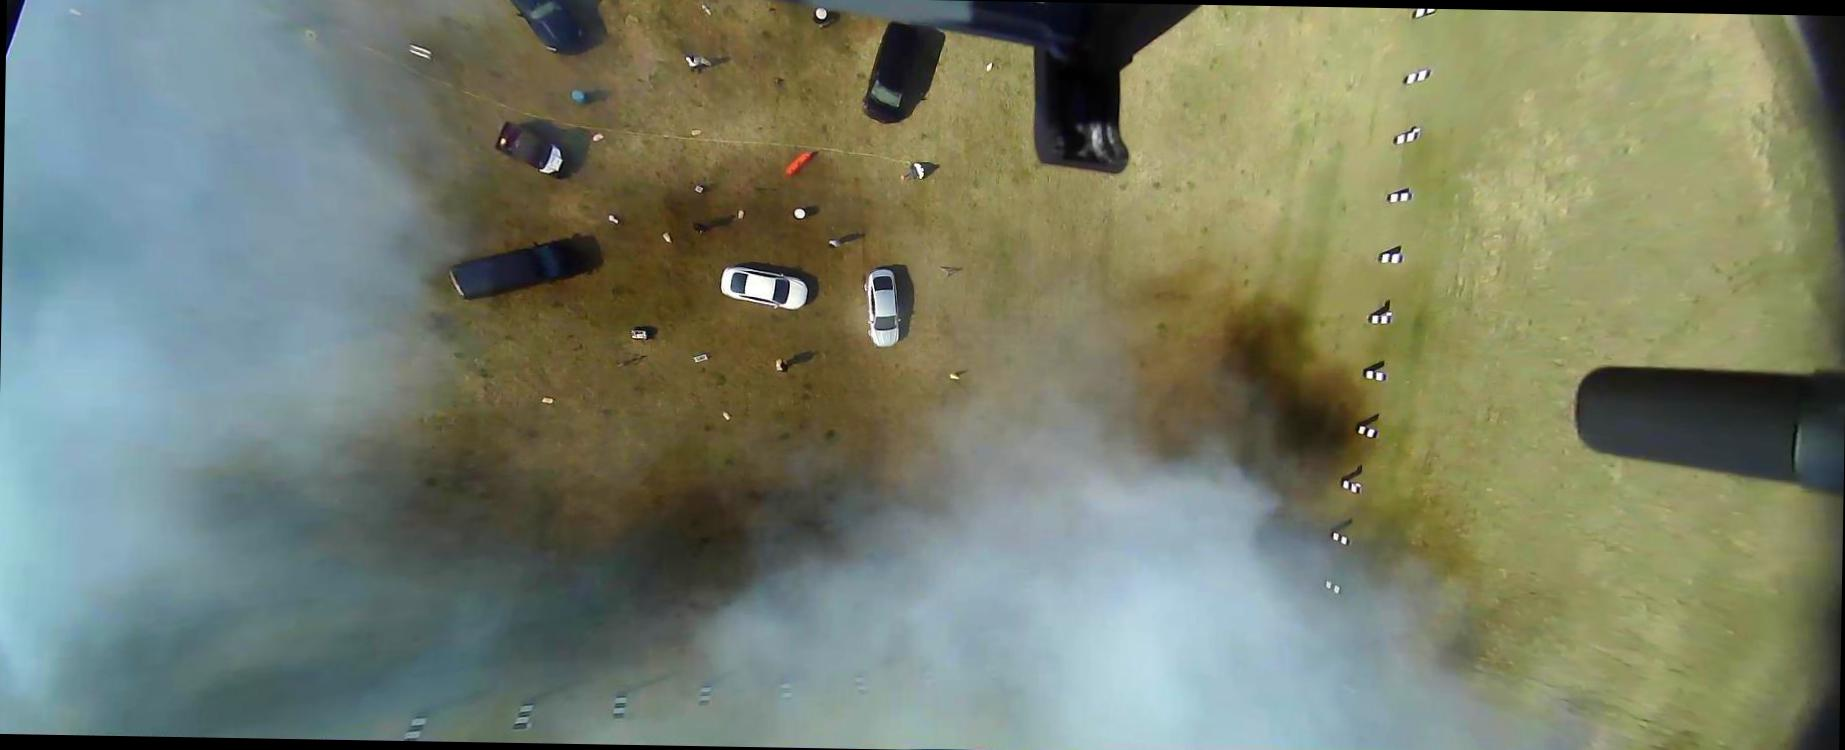vehicle: (446, 240, 564, 303), (860, 19, 921, 125), (501, 0, 584, 57), (492, 119, 566, 179), (717, 264, 810, 311), (860, 268, 901, 349)
